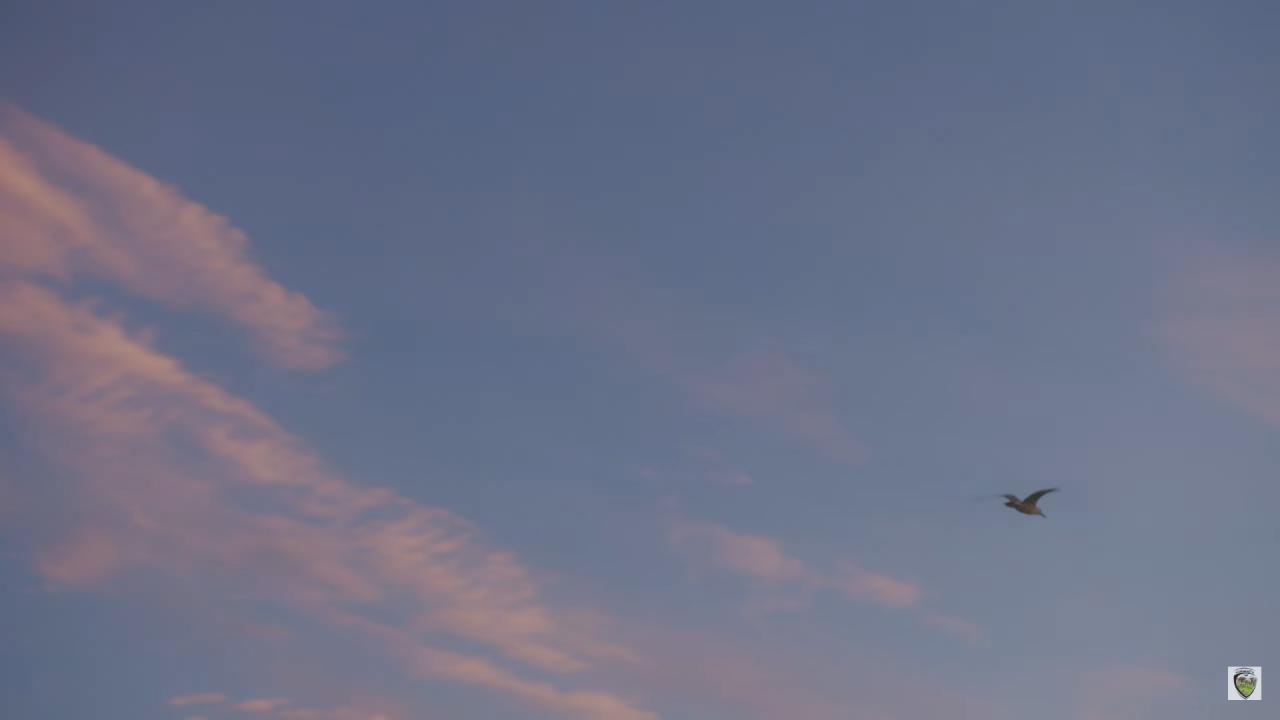Bird: (974, 480, 1072, 529)
